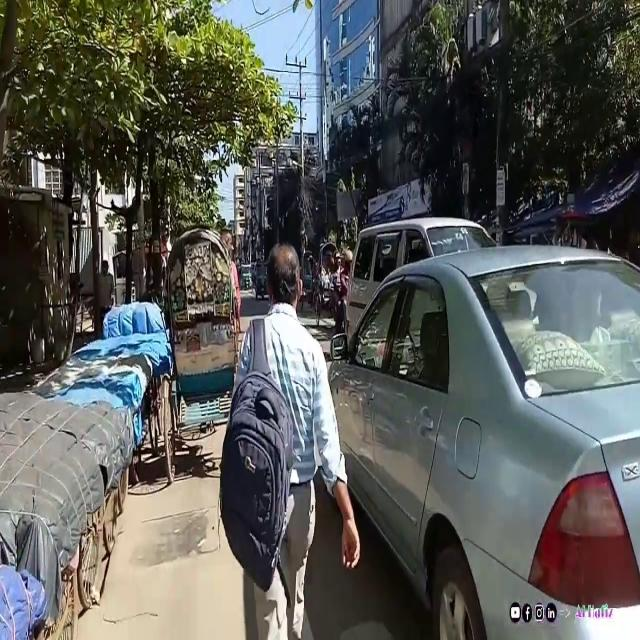silver: (332, 242, 640, 640)
white: (349, 208, 495, 342)
